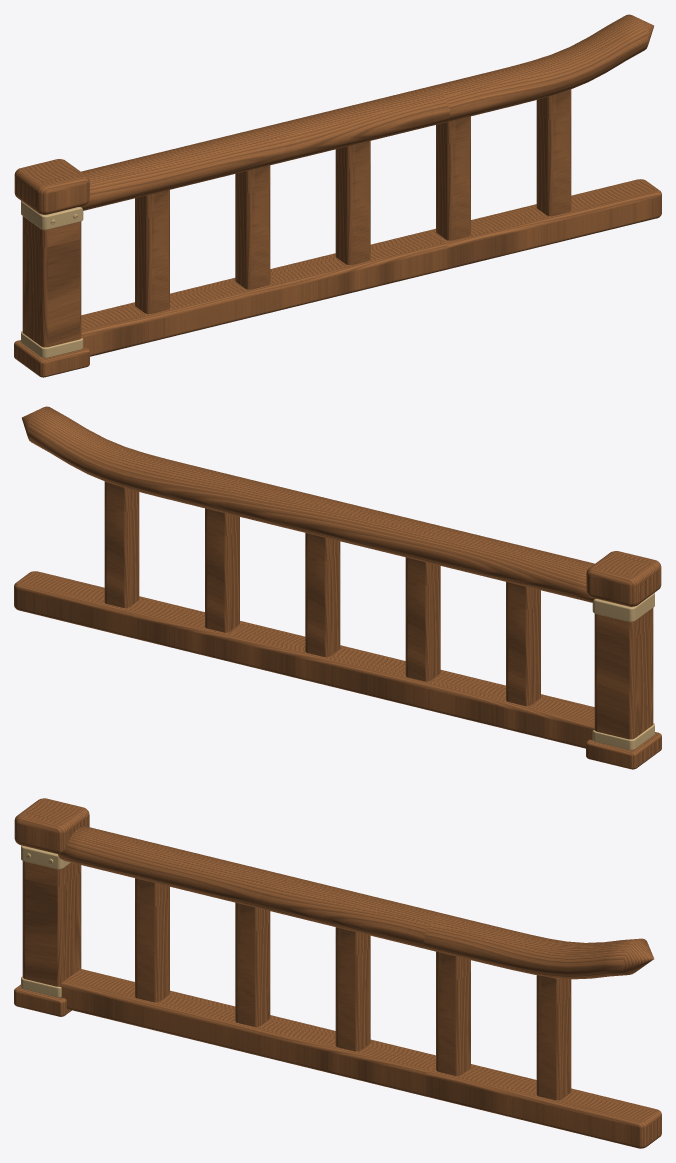
File: theatre_rail_landing_left.glb
3 views of the same model, one above another, from view 1: azimuth 30°, elevation 25°; view 2: azimuth 150°, elevation 25°; view 3: azimuth 330°, elevation 25° (orthographic).
Visible parts, largest first — view 1: left_curved_handrail, left_bottom, left_outer_shaft, left_baluster1, left_baluster4, left_baluster3, left_baluster2, left_baluster5, left_outer_cap, left_outer_foot, left_outer_collar, left_outer_foot_band; view 2: left_curved_handrail, left_bottom, left_outer_shaft, left_baluster1, left_baluster4, left_baluster3, left_baluster2, left_baluster5, left_outer_cap, left_outer_foot, left_outer_collar, left_outer_foot_band; view 3: left_bottom, left_curved_handrail, left_outer_shaft, left_baluster1, left_baluster3, left_baluster4, left_baluster2, left_baluster5, left_outer_cap, left_outer_foot, left_outer_collar.
Boxes of the visible parts, left/top/right/bottom form: left_curved_handrail: left=79, top=14, right=653, bottom=210; left_bottom: left=81, top=179, right=661, bottom=356; left_outer_shaft: left=22, top=216, right=81, bottom=347; left_baluster1: left=536, top=89, right=571, bottom=215; left_baluster4: left=235, top=165, right=270, bottom=289; left_baluster3: left=335, top=141, right=370, bottom=264; left_baluster2: left=436, top=116, right=470, bottom=240; left_baluster5: left=135, top=190, right=169, bottom=313; left_outer_cap: left=14, top=159, right=89, bottom=214; left_outer_foot: left=14, top=340, right=89, bottom=377; left_outer_collar: left=21, top=201, right=83, bottom=230; left_outer_foot_band: left=21, top=331, right=83, bottom=358; left_curved_handrail: left=22, top=406, right=596, bottom=602; left_bottom: left=14, top=571, right=594, bottom=748; left_outer_shaft: left=594, top=608, right=653, bottom=739; left_baluster1: left=104, top=481, right=139, bottom=607; left_baluster4: left=405, top=557, right=440, bottom=681; left_baluster3: left=305, top=533, right=340, bottom=656; left_baluster2: left=205, top=508, right=239, bottom=632; left_baluster5: left=506, top=582, right=540, bottom=705; left_outer_cap: left=586, top=551, right=661, bottom=606; left_outer_foot: left=586, top=732, right=661, bottom=769; left_outer_collar: left=592, top=592, right=654, bottom=622; left_outer_foot_band: left=592, top=723, right=654, bottom=750; left_bottom: left=59, top=969, right=661, bottom=1148; left_curved_handrail: left=58, top=826, right=654, bottom=979; left_outer_shaft: left=22, top=861, right=81, bottom=986; left_baluster1: left=536, top=975, right=571, bottom=1100; left_baluster3: left=335, top=927, right=370, bottom=1051; left_baluster4: left=235, top=902, right=270, bottom=1026; left_baluster2: left=436, top=951, right=470, bottom=1075; left_baluster5: left=135, top=878, right=169, bottom=1002; left_outer_cap: left=14, top=798, right=89, bottom=854; left_outer_foot: left=14, top=984, right=71, bottom=1016; left_outer_collar: left=21, top=845, right=70, bottom=869.
Size of the model in its own units: 0.506 by 0.1561 by 0.042.
Materials: 3 (1 with a texture image).
